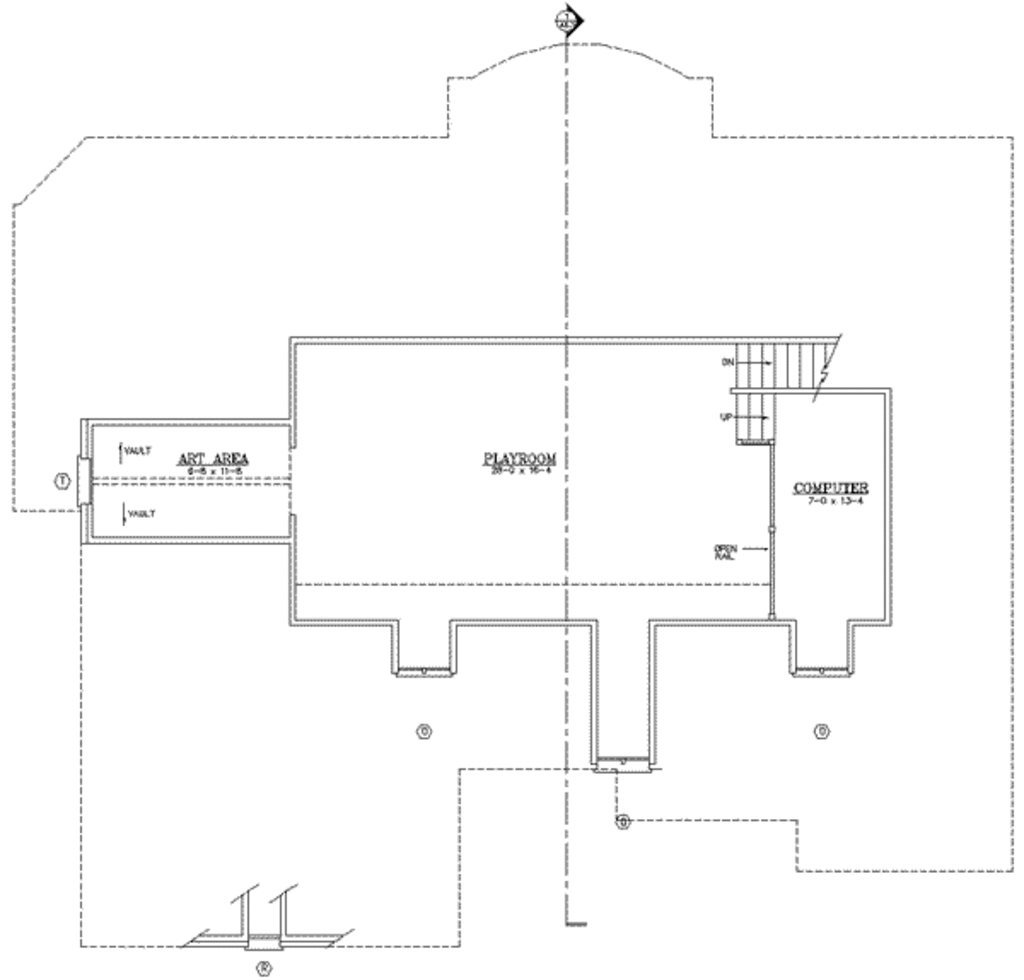stairs: (726, 328, 840, 463)
window: (76, 449, 105, 516)
